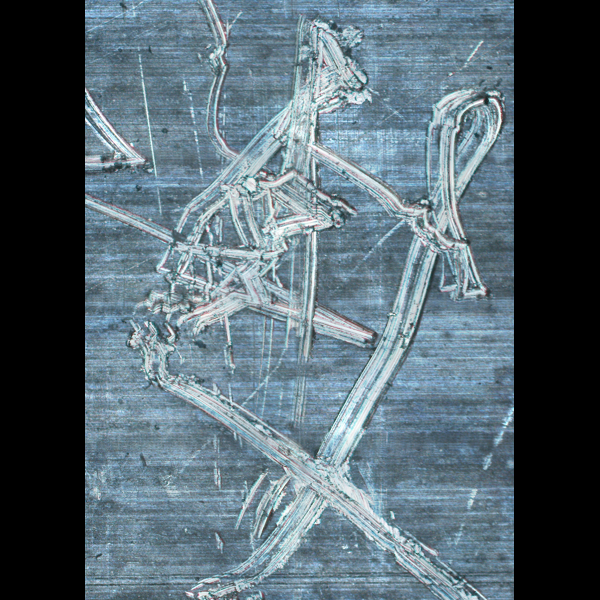d: (141, 320, 461, 600), (125, 142, 367, 383), (389, 72, 507, 318), (278, 8, 382, 151), (198, 0, 264, 166), (85, 74, 164, 194)
